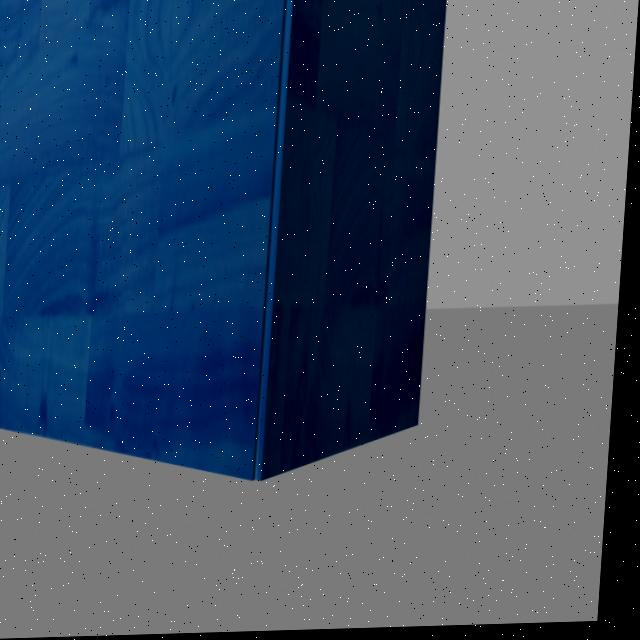shelf: (0, 0, 470, 519)
